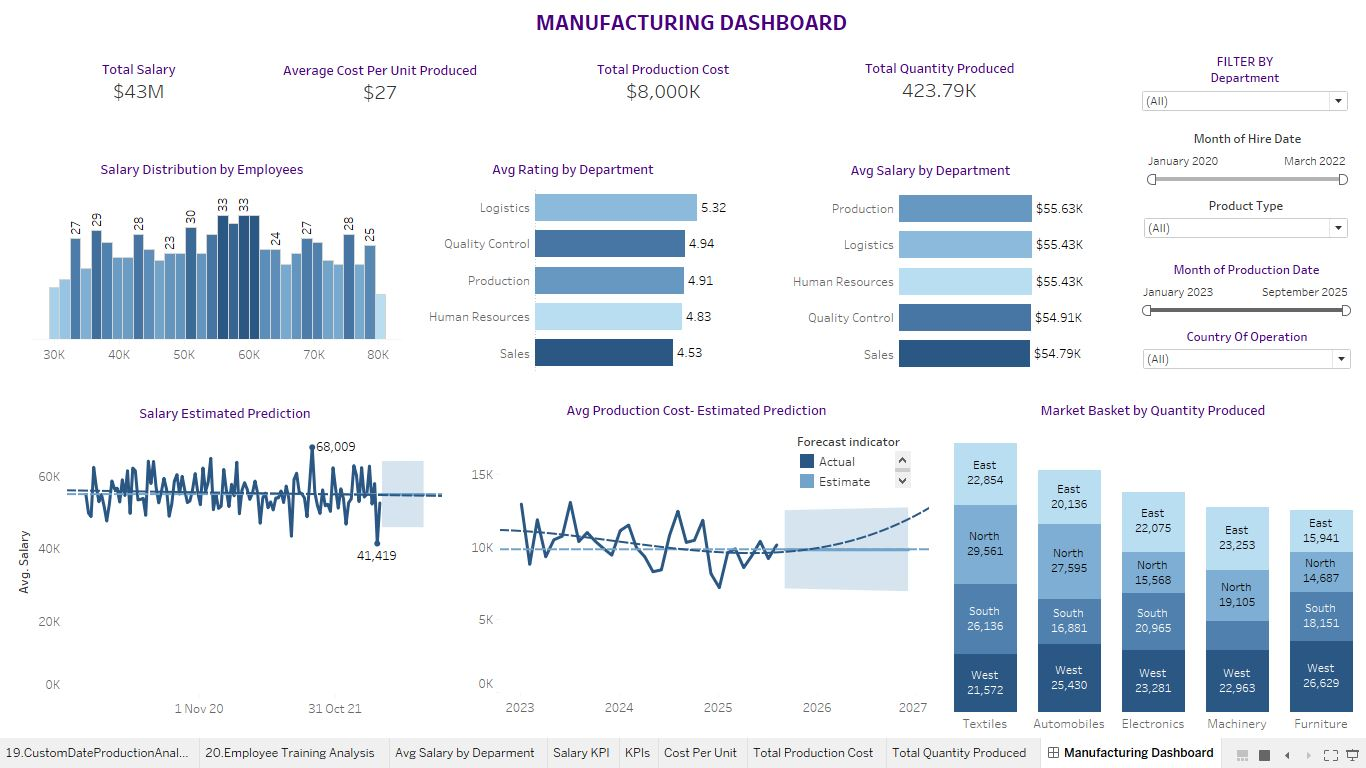

The page's visual inventory and layout, read from the dashboard file:
{"tool":"tableau","page":{"name":"Manufacturing Dashboard","canvas":[1000,1000],"units":"permille","ordinal":0},"visuals":[{"type":"worksheet","title":"Total Quantity Produced","mark":"Automatic","box":[629.7,59.6,192,140.2]},{"type":"worksheet","title":"Salary KPI","mark":"Automatic","box":[65.2,60.4,100.8,131.7]},{"type":"worksheet","title":"Total Production Cost","mark":"Automatic","box":[427.9,60.4,162.3,149.3]},{"type":"worksheet","title":"Cost Per Unit","mark":"Automatic","box":[198.6,62.6,173.2,140.5]},{"type":"filter","title":"Avg Salary by Deparment","param":"[federated.0c11z7q1076qsk1ekkio71rvhc4t].[none:Department:nk]","box":[834,71.4,155.1,107.6]},{"type":"filter","title":"18. Market Basket Analysis","param":"[federated.0c11z7q1076qsk1ekkio71rvhc4t].[tmn:HireDate:qk]","box":[836.5,175.6,153.3,82.3]},{"type":"worksheet","title":"5. Bin Creation for Salary Analysis","mark":"Automatic","rows":["EmployeeID"],"cols":["Salary I (bin)"],"box":[1.8,210.8,292.9,296.4]},{"type":"worksheet","title":"9.Performance Rating Analysis","mark":"Automatic","rows":["Department"],"cols":["PerformanceRating_I"],"box":[298.2,211.9,243.1,292]},{"type":"worksheet","title":"Avg Salary by Deparment","mark":"Automatic","rows":["Department"],"cols":["Salary_I"],"box":[561.8,213,239.6,290.9]},{"type":"filter","title":"18. Market Basket Analysis","param":"[federated.0c11z7q1076qsk1ekkio71rvhc4t].[none:ProductType:nk]","box":[835.2,266.7,153.9,80.1]},{"type":"filter","title":"7.Trend Analysis of Production Cost","param":"[federated.0c11z7q1076qsk1ekkio71rvhc4t].[tmn:ProductionDate:qk]","box":[832.8,353.5,158.7,85.6]},{"type":"filter","title":"Avg Salary by Deparment","param":"[federated.0c11z7q1076qsk1ekkio71rvhc4t].[none:CountryOfOperation:nk]","box":[834.6,444.6,156.3,80.1]},{"type":"worksheet","title":"7.Trend Analysis of Production Cost","mark":"Automatic","rows":["ProductionCost_I"],"cols":["ProductionDate"],"box":[339.8,537.9,340.4,440.2]},{"type":"worksheet","title":"18. Market Basket Analysis","mark":"Automatic","rows":["QuantityProduced_I"],"cols":["ProductType"],"box":[690.1,538.2,307.5,454.8]},{"type":"worksheet","title":"16.Future Salary Trend","mark":"Automatic","rows":["Salary_I"],"cols":["HireDate"],"box":[6,541.7,317.6,438.3]},{"type":"legend","title":"7.Trend Analysis of Production Cost","param":"[federated.0c11z7q1076qsk1ekkio71rvhc4t].[none:Forecast Indicator:nk]","box":[583.4,586.4,84.6,75.2]}]}

Visuals, with their boxes on the dashboard's canvas, which has no fixed pixel size, in thousandths of its width and height (x1, y1, x2, y2). These are canvas units, not pixel positions in the 1366x768 screenshot, which may show the page scaled, cropped or inside an application window:
"Total Quantity Produced" worksheet: pyautogui.locateOnScreen(630, 60, 822, 200)
"Salary KPI" worksheet: pyautogui.locateOnScreen(65, 60, 166, 192)
"Total Production Cost" worksheet: pyautogui.locateOnScreen(428, 60, 590, 210)
"Cost Per Unit" worksheet: pyautogui.locateOnScreen(199, 63, 372, 203)
"Avg Salary by Deparment" filter: pyautogui.locateOnScreen(834, 71, 989, 179)
"18. Market Basket Analysis" filter: pyautogui.locateOnScreen(836, 176, 990, 258)
"5. Bin Creation for Salary Analysis" worksheet: pyautogui.locateOnScreen(2, 211, 295, 507)
"9.Performance Rating Analysis" worksheet: pyautogui.locateOnScreen(298, 212, 541, 504)
"Avg Salary by Deparment" worksheet: pyautogui.locateOnScreen(562, 213, 801, 504)
"18. Market Basket Analysis" filter: pyautogui.locateOnScreen(835, 267, 989, 347)
"7.Trend Analysis of Production Cost" filter: pyautogui.locateOnScreen(833, 354, 992, 439)
"Avg Salary by Deparment" filter: pyautogui.locateOnScreen(835, 445, 991, 525)
"7.Trend Analysis of Production Cost" worksheet: pyautogui.locateOnScreen(340, 538, 680, 978)
"18. Market Basket Analysis" worksheet: pyautogui.locateOnScreen(690, 538, 998, 993)
"16.Future Salary Trend" worksheet: pyautogui.locateOnScreen(6, 542, 324, 980)
"7.Trend Analysis of Production Cost" legend: pyautogui.locateOnScreen(583, 586, 668, 662)
